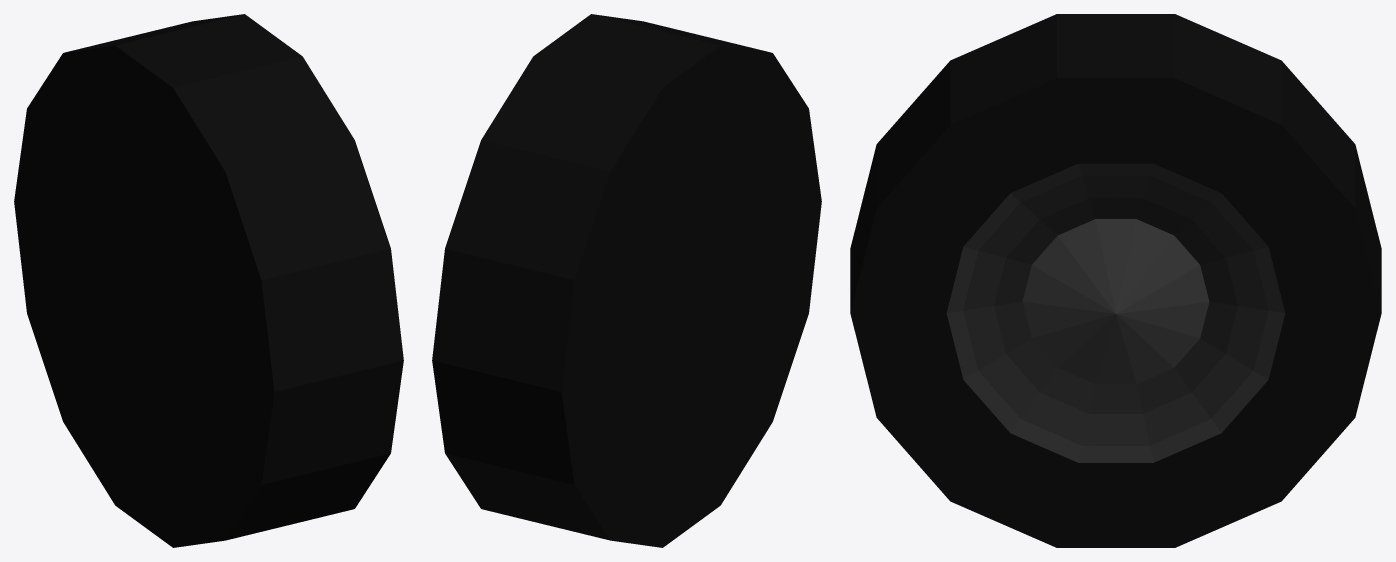
The model's file is WheelTractorFrontLeft.fbx.
The picture shows the model from 3 angles, left to right: view 1: azimuth 30°, elevation 25°; view 2: azimuth 150°, elevation 25°; view 3: azimuth 270°, elevation 25°; orthographic projection. The views are drawn at different scales.
Parts seen in each view (by area): view 1: WheelTractorFrontLeft; view 2: WheelTractorFrontLeft; view 3: WheelTractorFrontLeft.
Boxes of the visible parts, x1=… form: WheelTractorFrontLeft: x1=14, y1=14, x2=403, y2=547; WheelTractorFrontLeft: x1=432, y1=14, x2=821, y2=547; WheelTractorFrontLeft: x1=850, y1=14, x2=1381, y2=547.
Bounding box in the file's own units: 0.2306 × 0.7733 × 0.7932.
